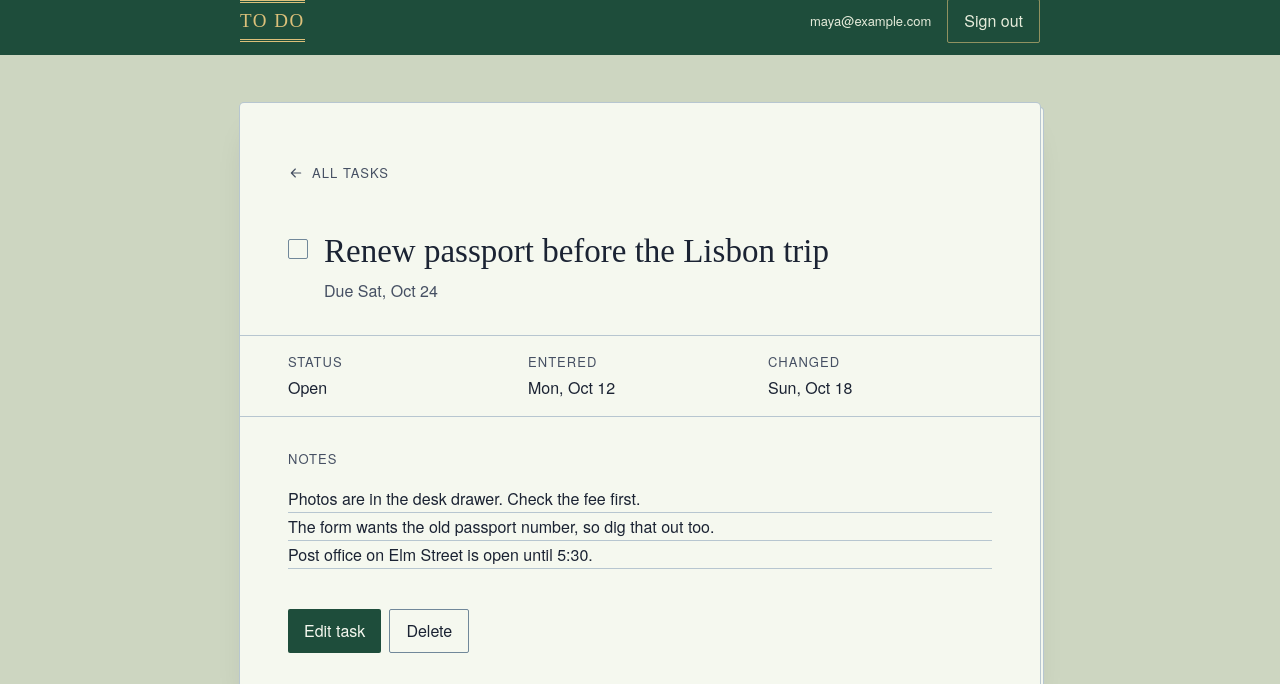
Test: TaskDetailPage › sends If-Match with the draft's base version
The image size is (1280, 684).
Click the button "Edit task" at (335, 631), box [288,609,381,653]
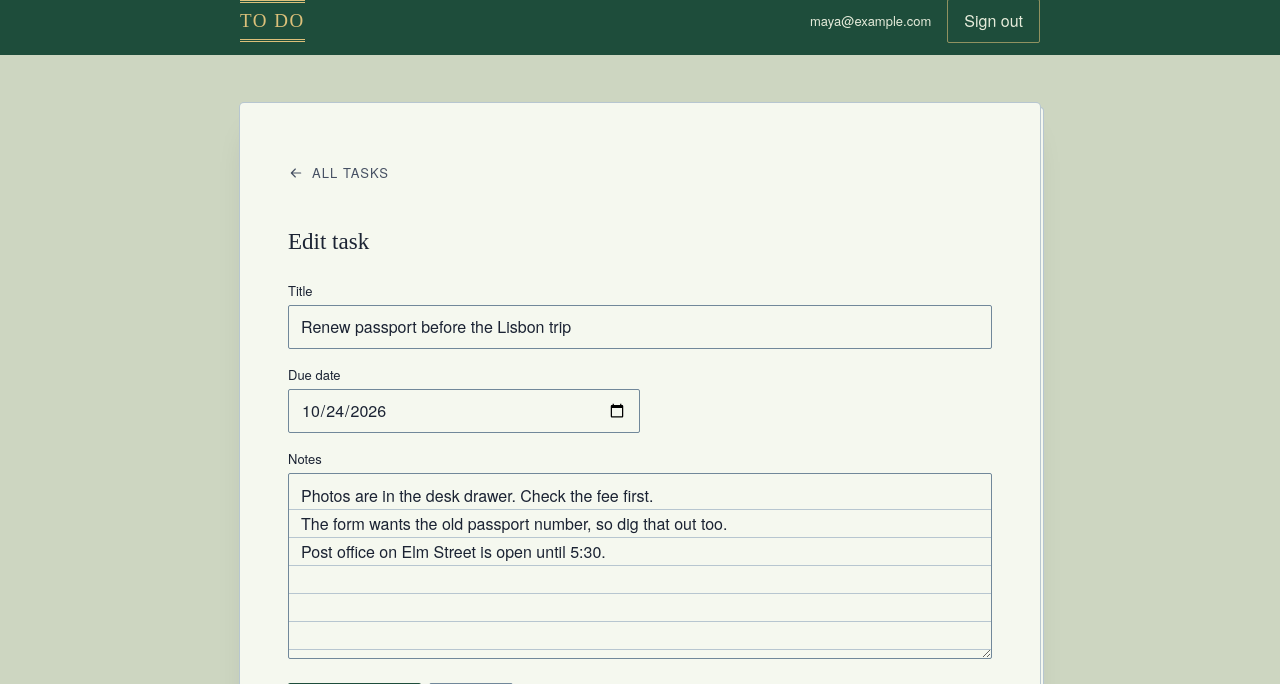
Replace the text in the field labelled "Title" with "My title" at (640, 327), box [288,305,992,349]
(page scrolled)
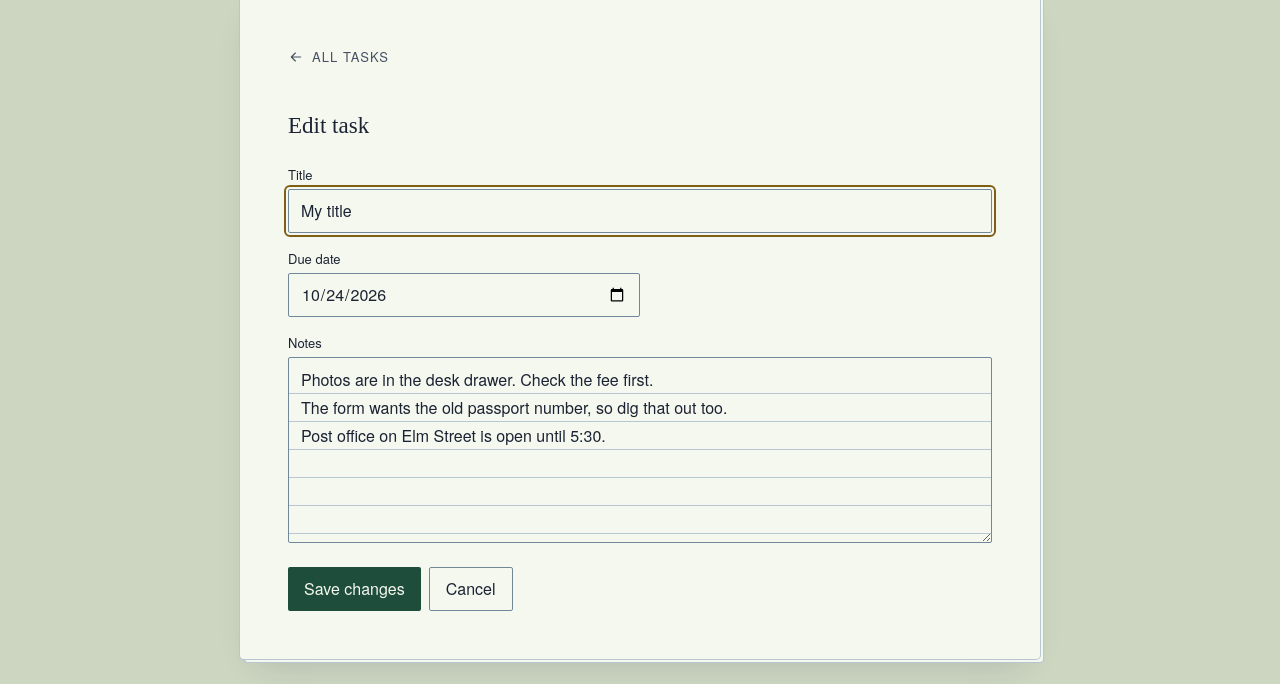
Click the button "Save changes" at (354, 589), box [288,567,421,611]
(page scrolled)
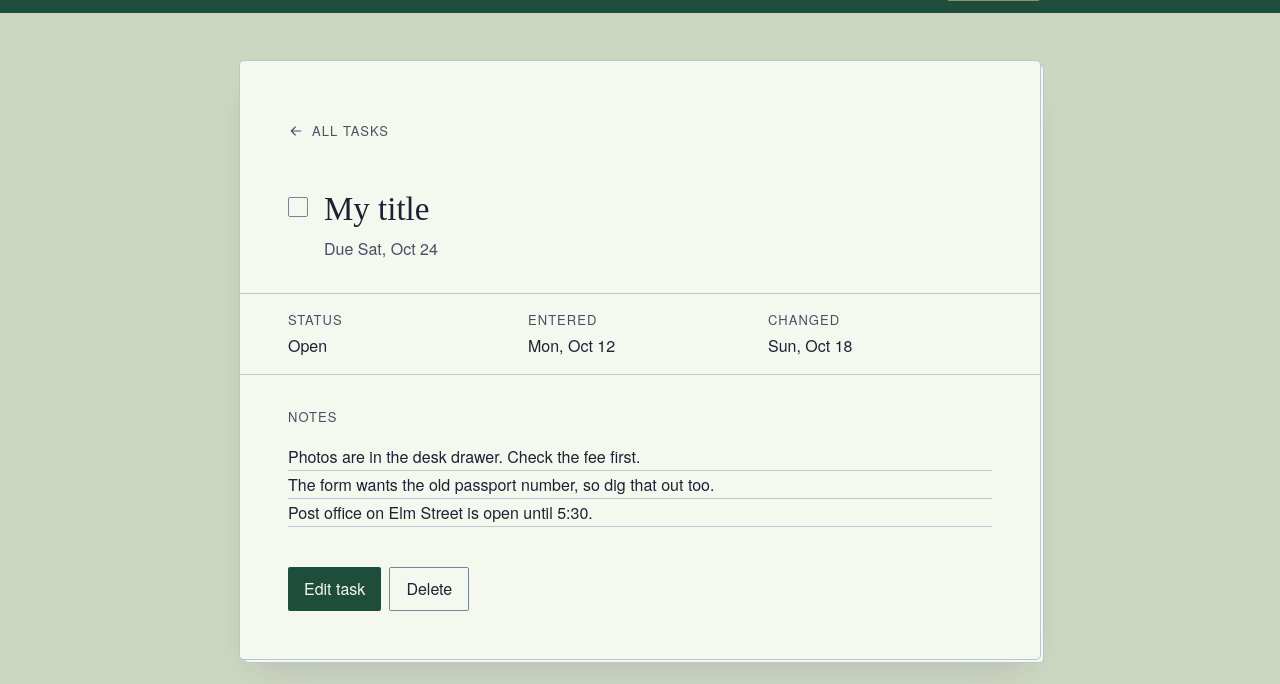
Check: the heading "My title" is shown, box [324,189,438,229]
